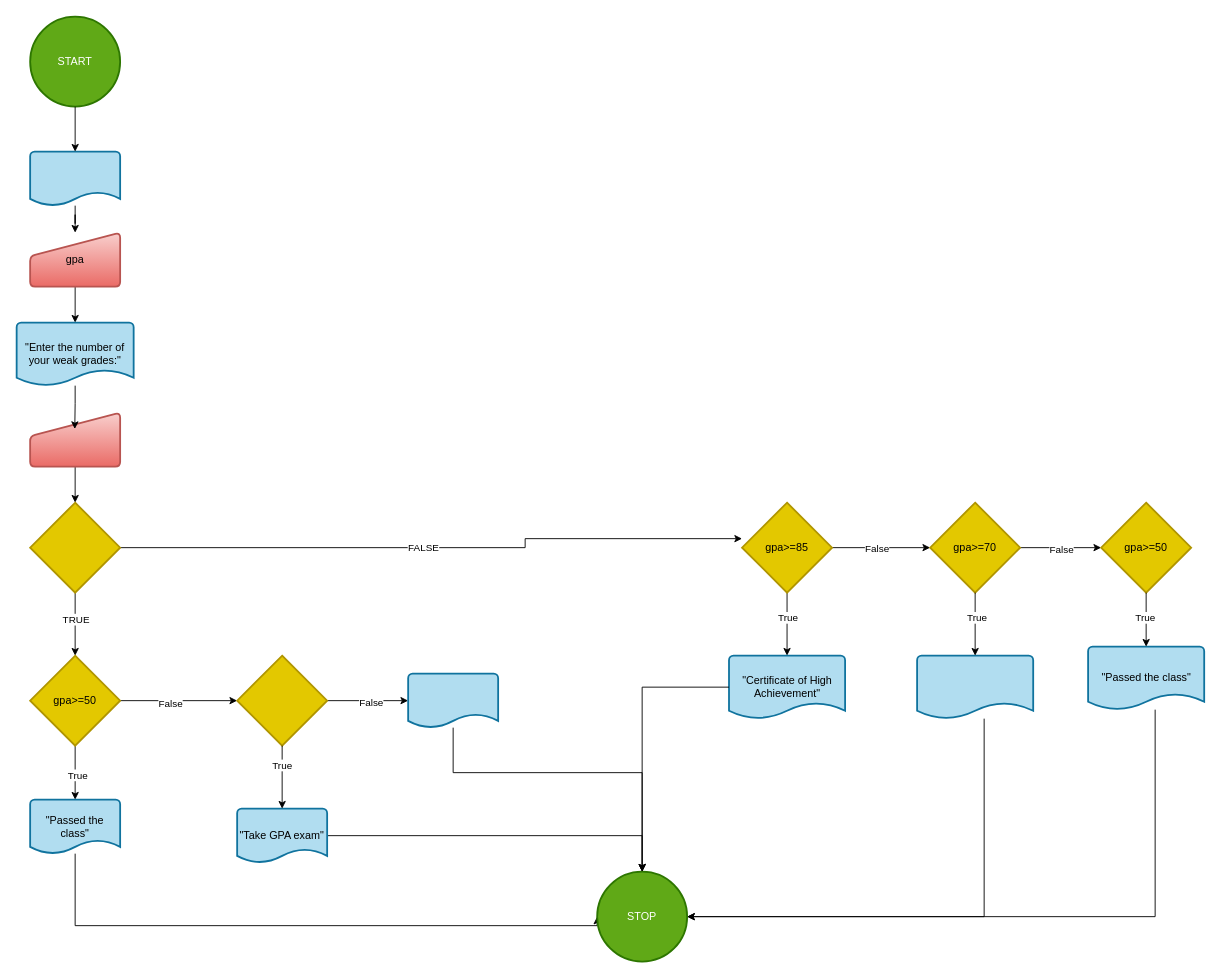
Image size: 1220x977. Some labels were removed from this diagram. Here are the shapes that lost their labels. From the top down, the centre of each, then its label:
(x=75, y=178): "Enter your GPA:"
(x=75, y=439): weakGrade
(x=75, y=547): weakGrade>0
(x=282, y=700): gpa>=25
(x=453, y=700): "Repeat the year"
(x=975, y=686): "Certificate of Achievement"
